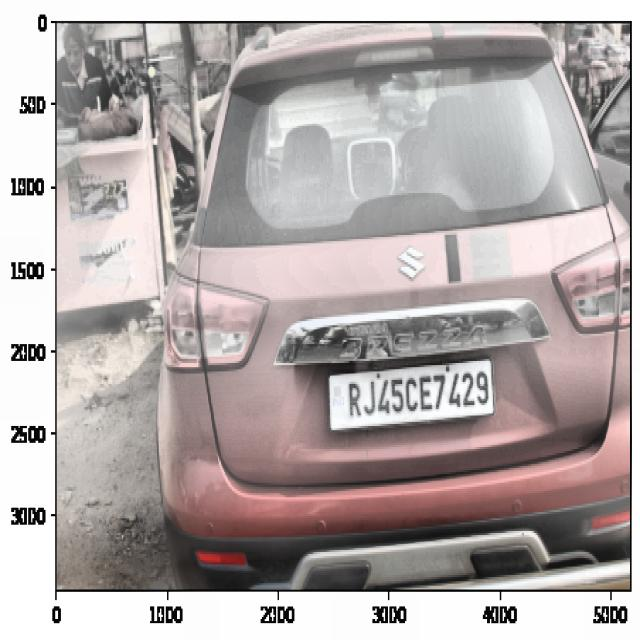license_plate: (339, 368, 494, 426)
